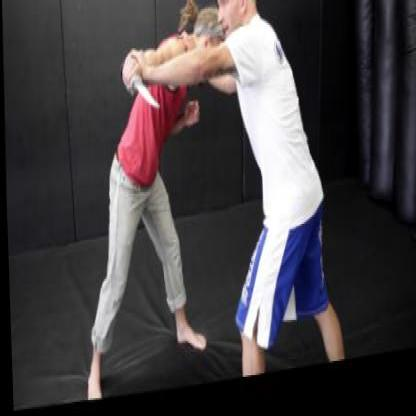knife: (116, 57, 164, 123)
